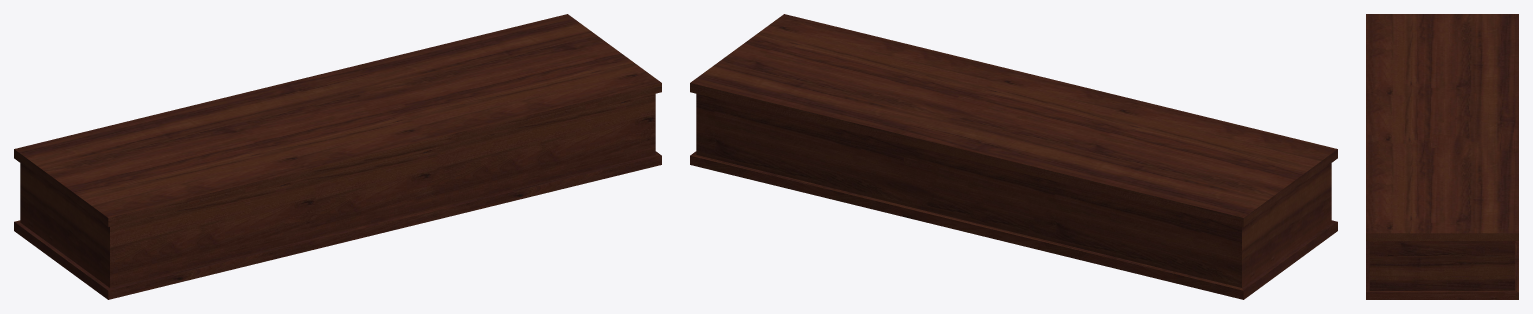
File: Shelf.fbx
The picture shows the model from 3 angles, left to right: view 1: azimuth 30°, elevation 25°; view 2: azimuth 150°, elevation 25°; view 3: azimuth 270°, elevation 25°; orthographic projection. The views are drawn at different scales.
Visible parts, largest first — view 1: Shelf; view 2: Shelf; view 3: Shelf.
Part boxes in pixels (x1,y1,x2,y2): Shelf: (14, 14, 661, 299); Shelf: (690, 14, 1337, 299); Shelf: (1366, 14, 1518, 299).
Bounding box in the file's own units: 20.7 × 2.93 × 6.1.
Materials: 1 (1 with a texture image).
